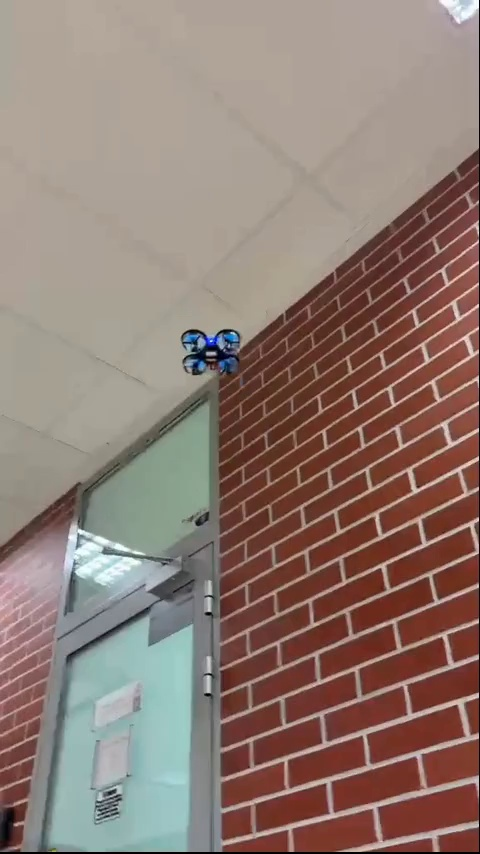drone: (180, 325, 240, 384)
